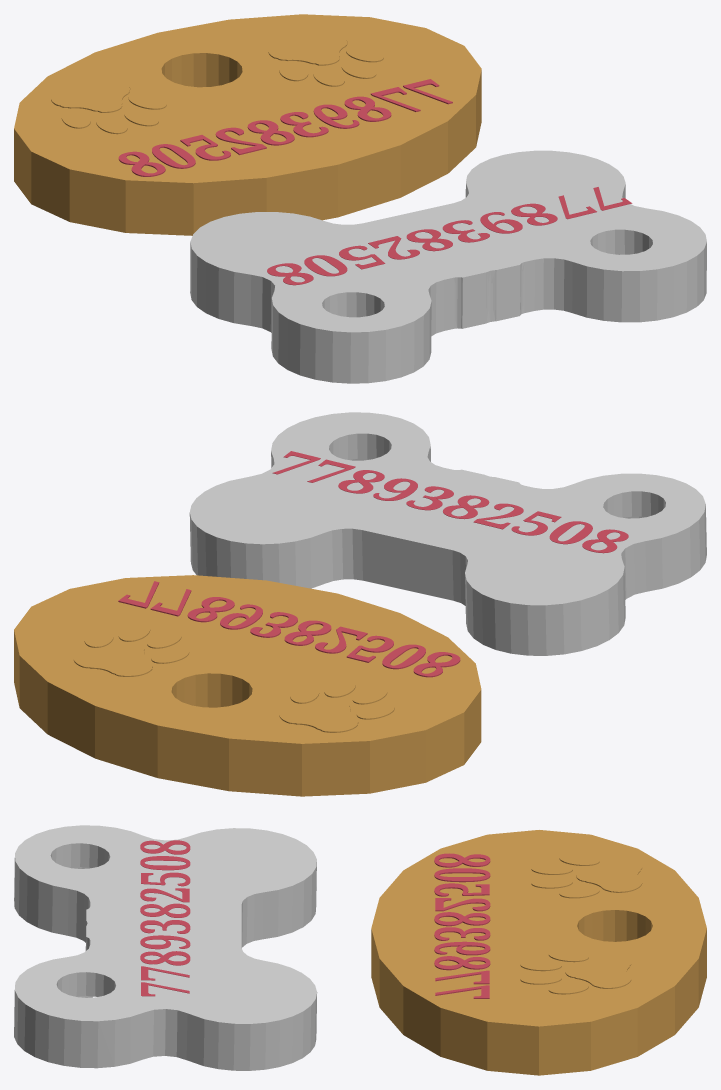
Rendered from noah_dog_tags.glb.
3 views of the same model, one above another, from view 1: azimuth 30°, elevation 25°; view 2: azimuth 150°, elevation 25°; view 3: azimuth 270°, elevation 25° (orthographic). The views are drawn at different scales.
Parts seen in each view (by area): view 1: Mesh_Mesh_head_geo.001_lambert2SG.001; view 2: Mesh_Mesh_head_geo.001_lambert2SG.001; view 3: Mesh_Mesh_head_geo.001_lambert2SG.001.
Part boxes in pixels (<box>): Mesh_Mesh_head_geo.001_lambert2SG.001: <box>14,14,706,383</box>; Mesh_Mesh_head_geo.001_lambert2SG.001: <box>14,412,706,796</box>; Mesh_Mesh_head_geo.001_lambert2SG.001: <box>14,825,706,1075</box>.
Size of the model in its own units: 43 by 6.08 by 64.
